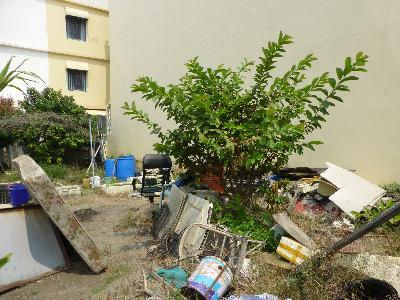bucket: (185, 253, 233, 300), (8, 183, 30, 207), (117, 154, 136, 180), (103, 156, 117, 178)
